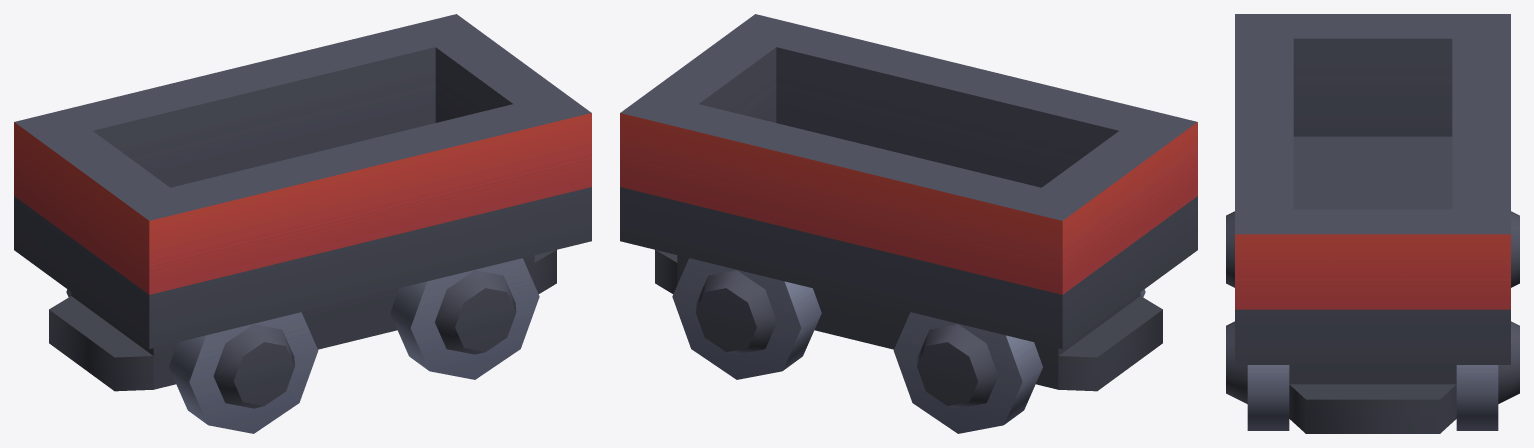
The model's file is tender.glb.
3 views of the same model, side by side, from view 1: azimuth 30°, elevation 25°; view 2: azimuth 150°, elevation 25°; view 3: azimuth 270°, elevation 25° (orthographic). The views are drawn at different scales.
Visible parts, largest first — view 1: train-tender; view 2: train-tender; view 3: train-tender.
Part boxes in pixels (bbox=[...]): train-tender: bbox=[14, 14, 591, 433]; train-tender: bbox=[620, 14, 1197, 433]; train-tender: bbox=[1226, 14, 1519, 433].
Size of the model in its own units: 0.3457 by 0.1825 by 0.1949.
1 material, 1 textured.
